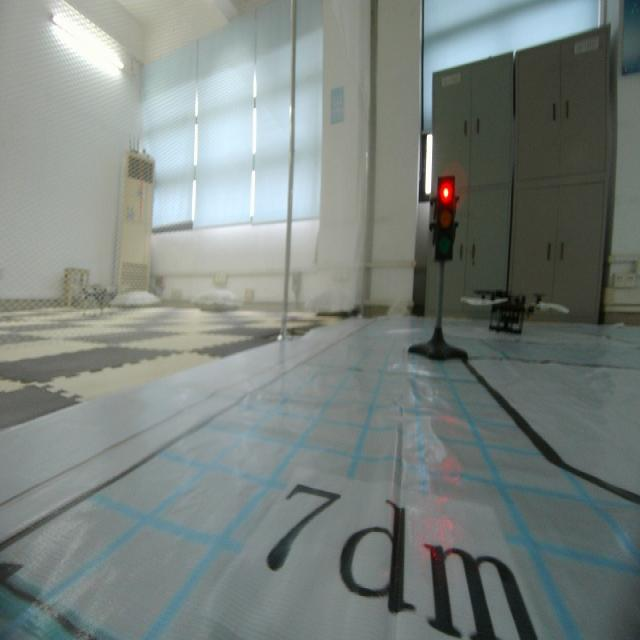red: (426, 173, 462, 272)
